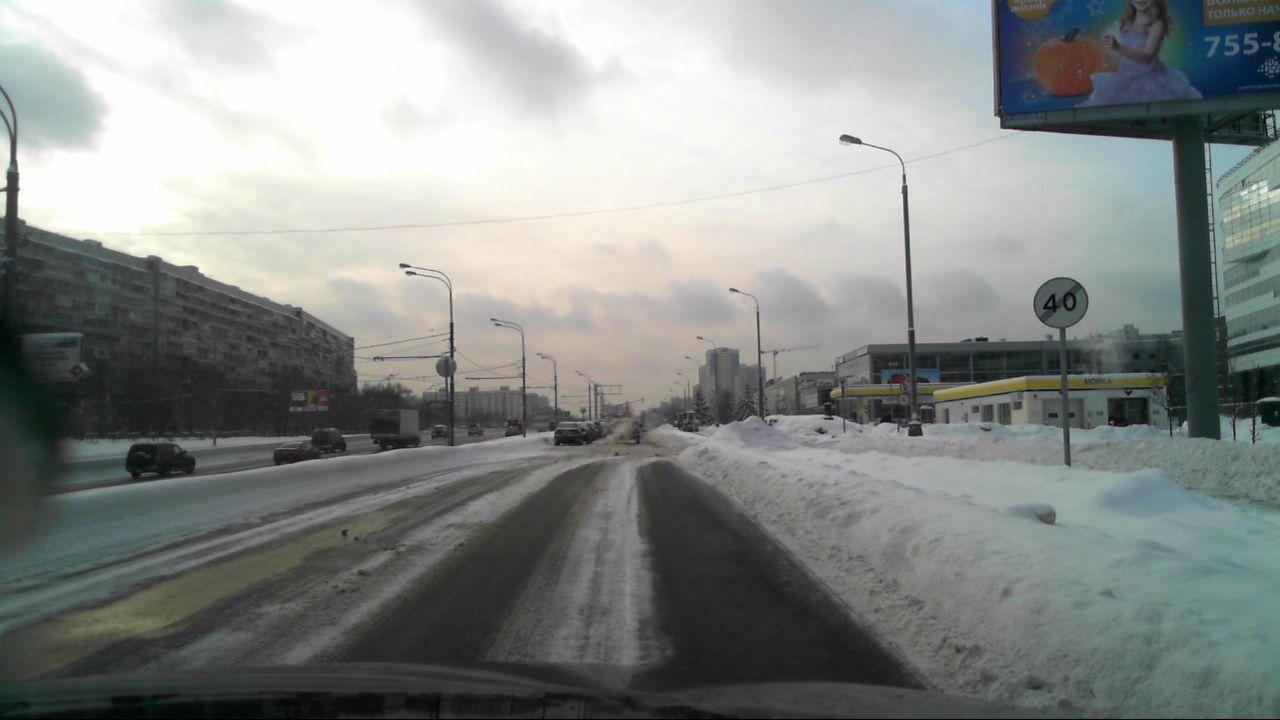3_25: (1031, 274, 1089, 331)
